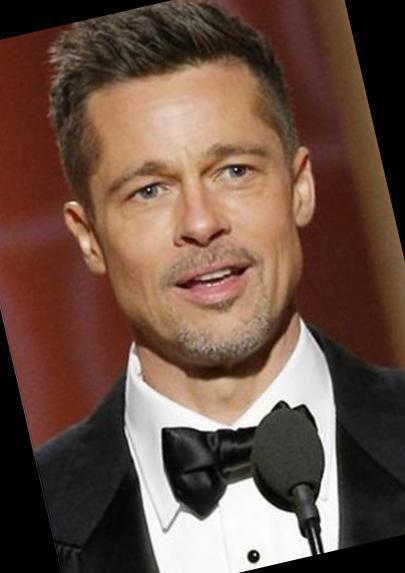Sober: (94, 92, 289, 350)
